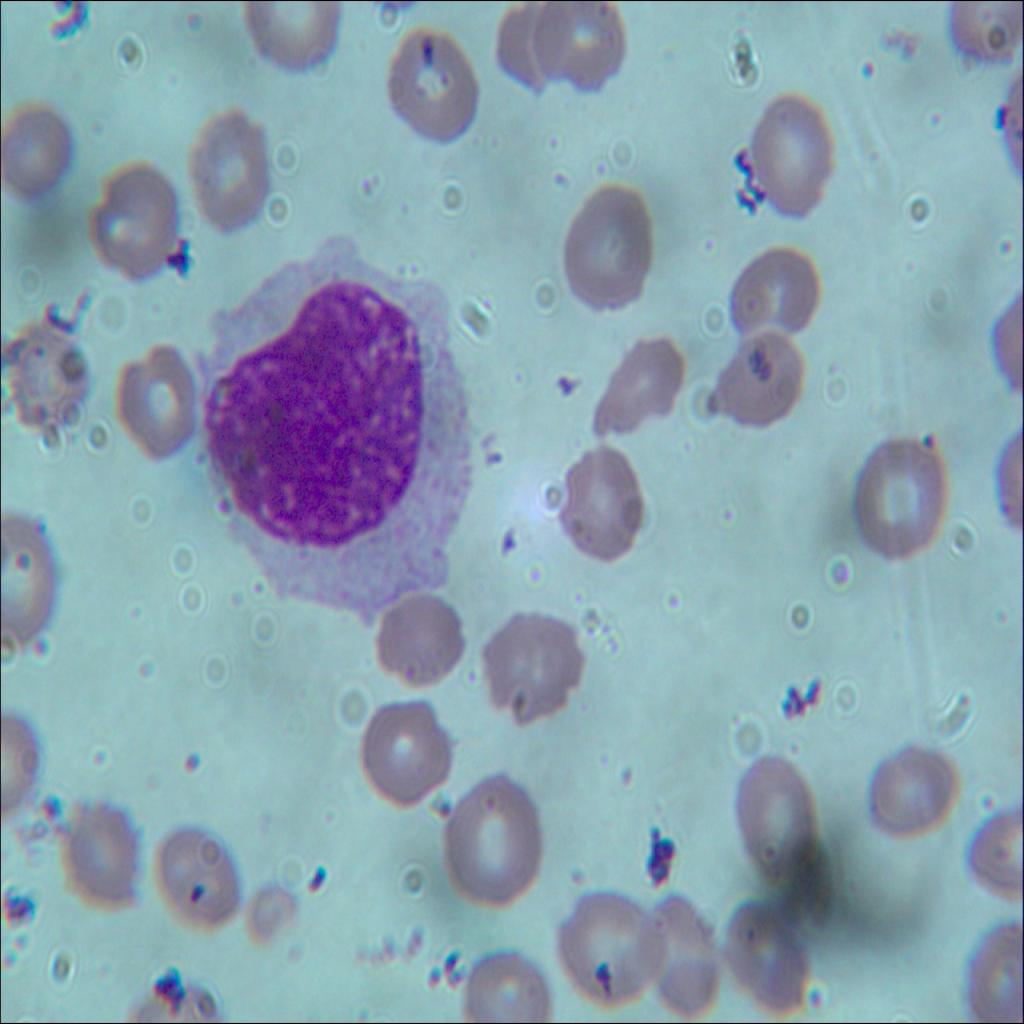Eritrosit: (441, 768, 546, 908), (100, 338, 206, 468), (848, 435, 948, 564), (368, 572, 468, 695), (558, 882, 664, 997), (729, 742, 821, 872), (742, 88, 838, 212), (388, 31, 483, 150), (86, 161, 178, 281), (0, 326, 96, 438), (189, 111, 273, 236), (0, 512, 66, 669), (361, 701, 451, 815), (859, 746, 962, 844), (635, 897, 728, 1004), (488, 618, 578, 725), (556, 449, 641, 562), (601, 321, 683, 434), (155, 822, 239, 932), (728, 899, 810, 1011), (72, 801, 142, 926), (722, 246, 826, 328), (531, 0, 633, 82), (0, 102, 78, 205), (458, 950, 558, 1023), (714, 337, 795, 422), (492, 0, 558, 95), (248, 0, 344, 65)
Limfoblast: (206, 244, 466, 569), (409, 32, 446, 82)
Platelet: (4, 888, 39, 936), (855, 40, 891, 86), (172, 738, 206, 782), (550, 352, 578, 404), (488, 525, 526, 562), (40, 790, 66, 831), (893, 28, 919, 64), (993, 92, 1018, 124), (188, 872, 206, 914), (306, 864, 324, 895)
